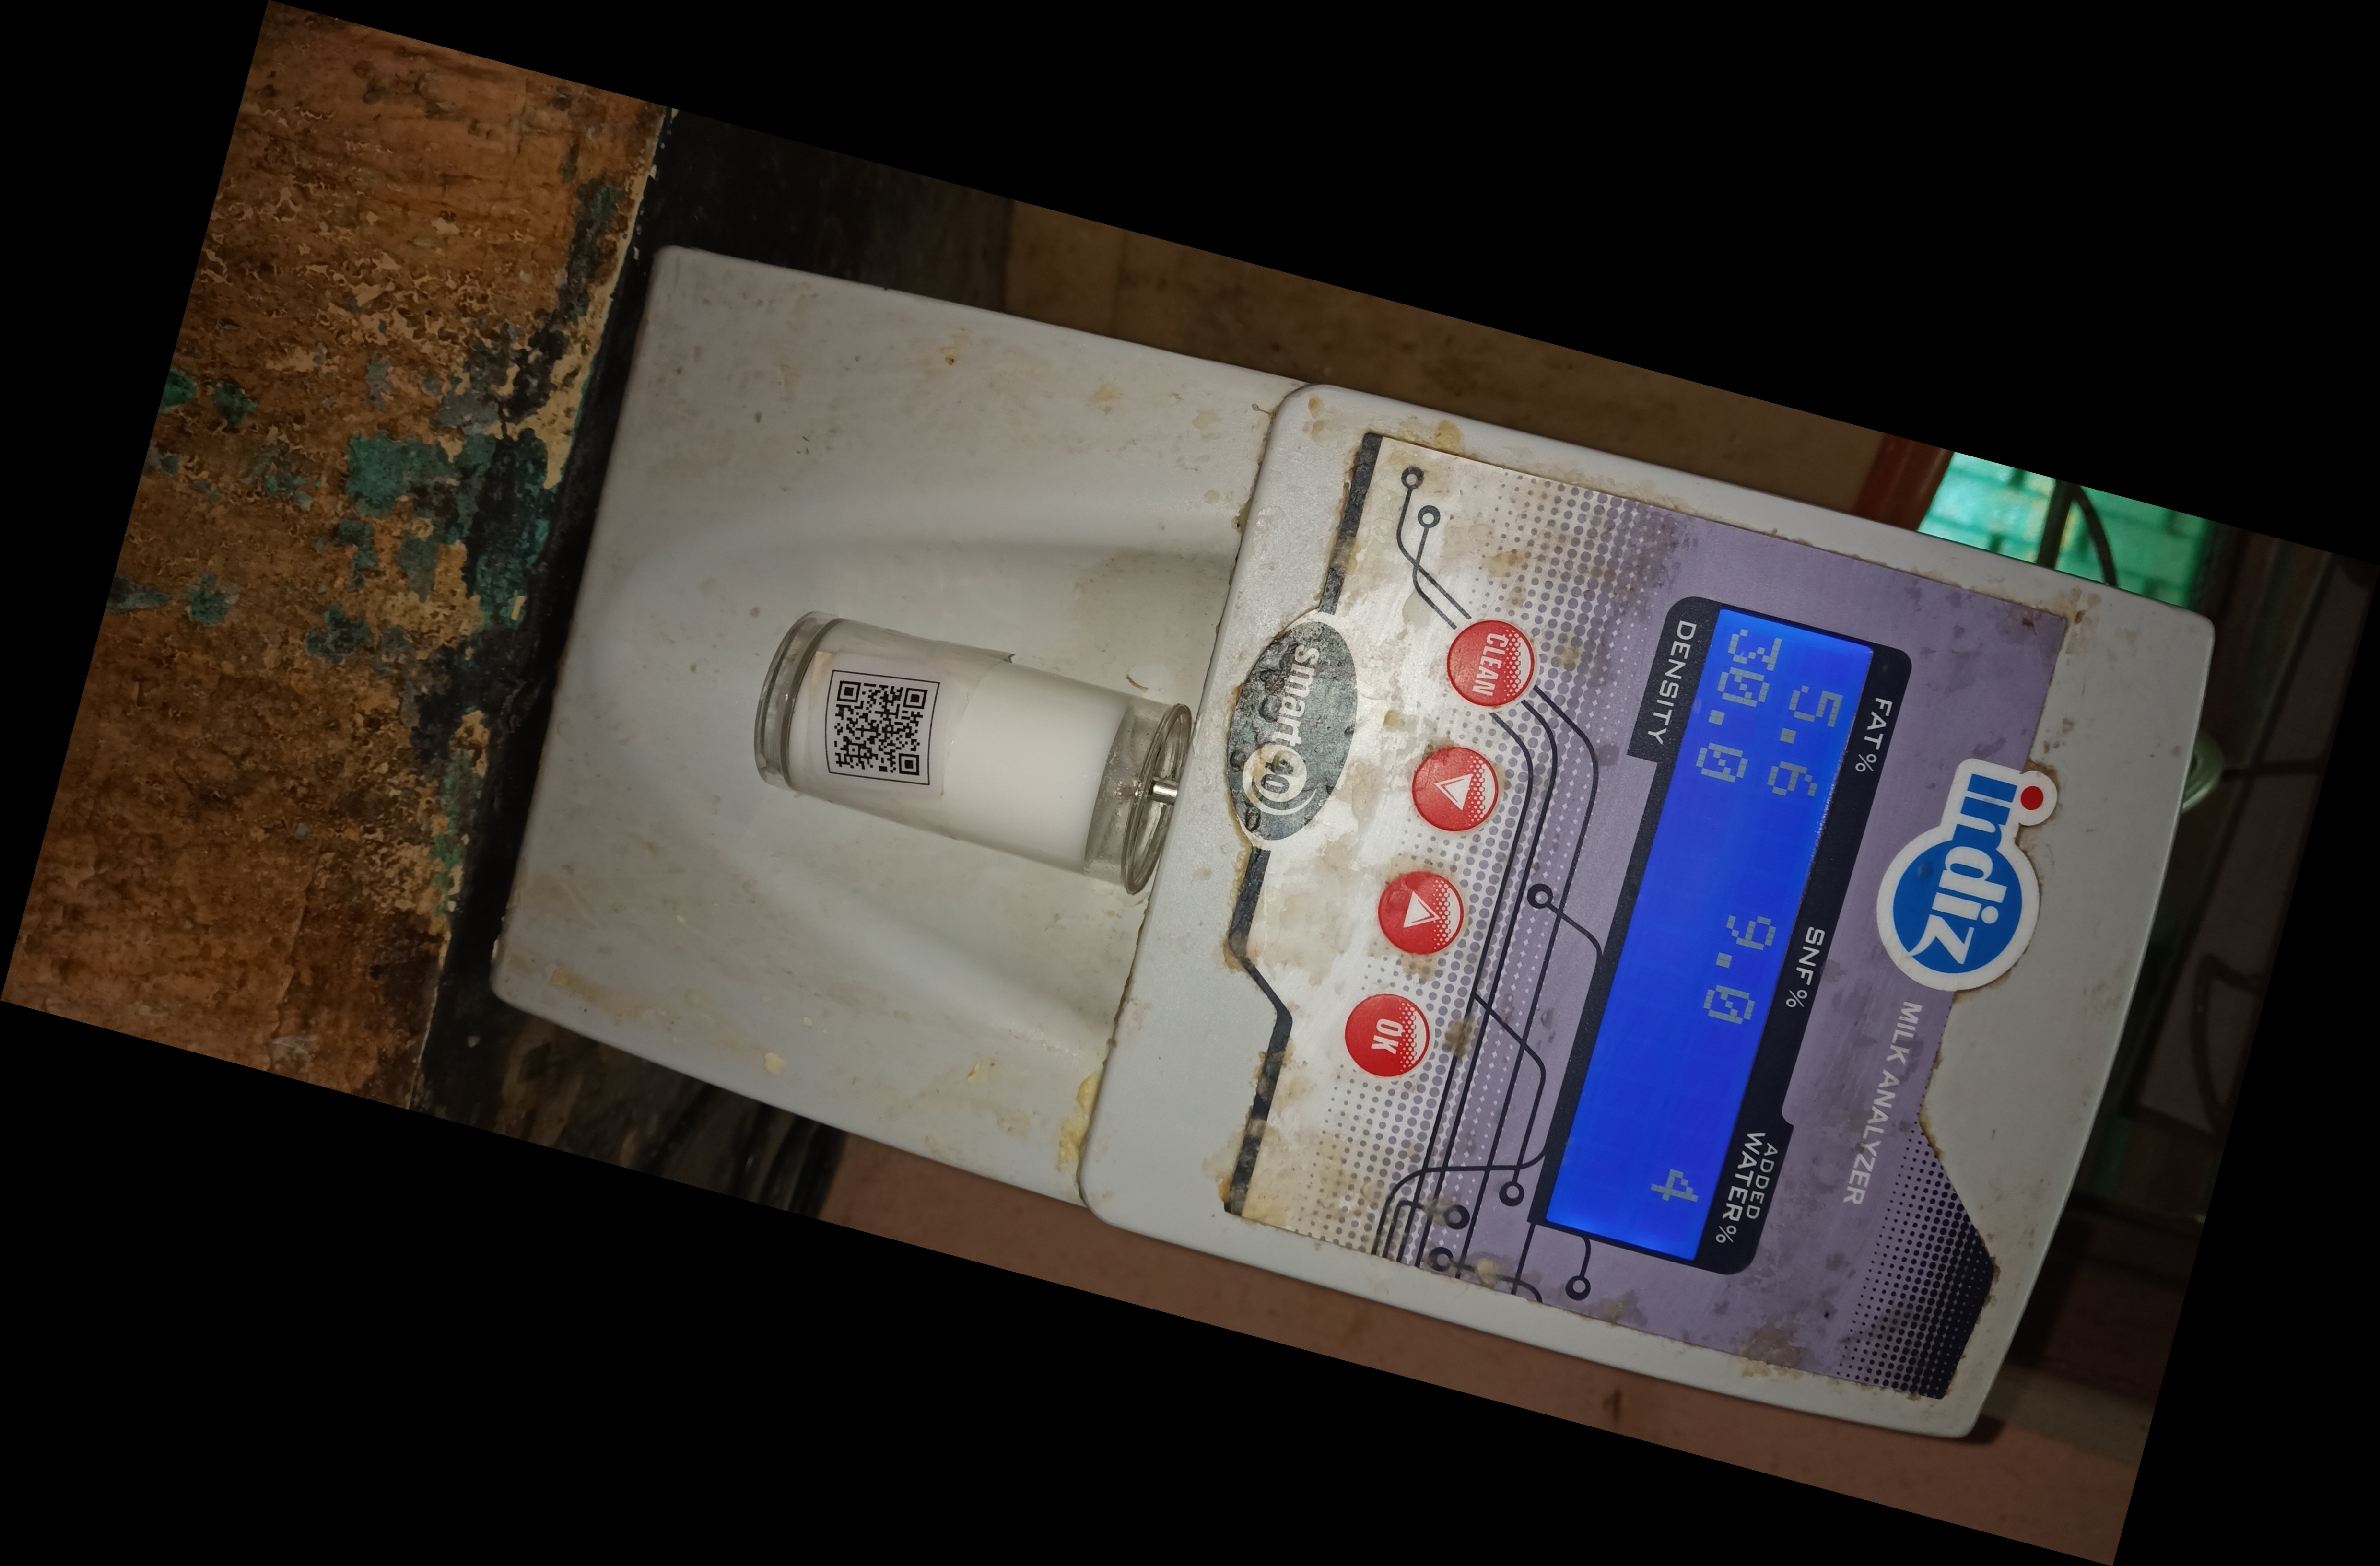lcd: (1524, 582, 1906, 1293)
qr: (814, 652, 951, 802)
